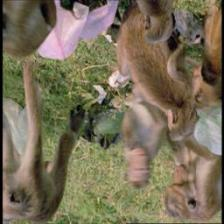monkey: (164, 158, 196, 224), (190, 56, 220, 115), (159, 100, 197, 144), (122, 143, 152, 190)
